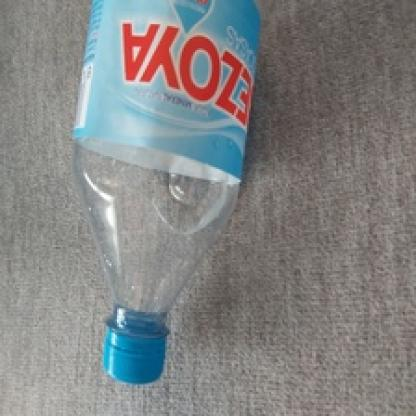plastic_bottles: (61, 2, 277, 398)
